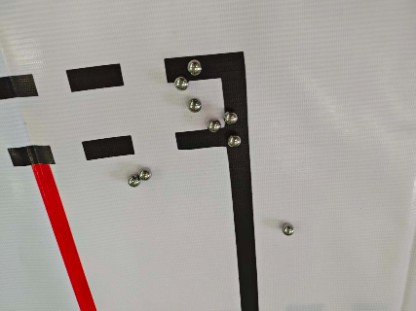ironball: (186, 60, 201, 76), (228, 134, 241, 148), (188, 97, 200, 111), (222, 111, 236, 122), (174, 76, 185, 89), (282, 224, 293, 235), (210, 119, 221, 130), (139, 168, 150, 178), (128, 175, 139, 185)
